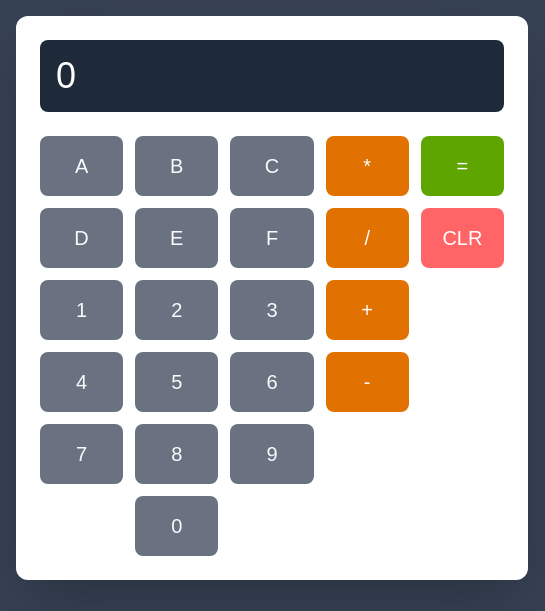
Test: Calculator Add Funtion › should add 1 with 1
Click the button with test id "1".
click(82, 310)  # box [40,280,123,340]
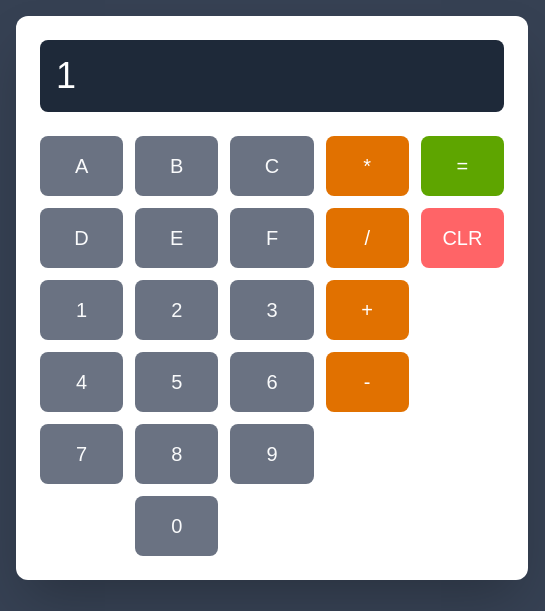
Click the button with test id "+".
click(368, 310)  # box [326,280,409,340]
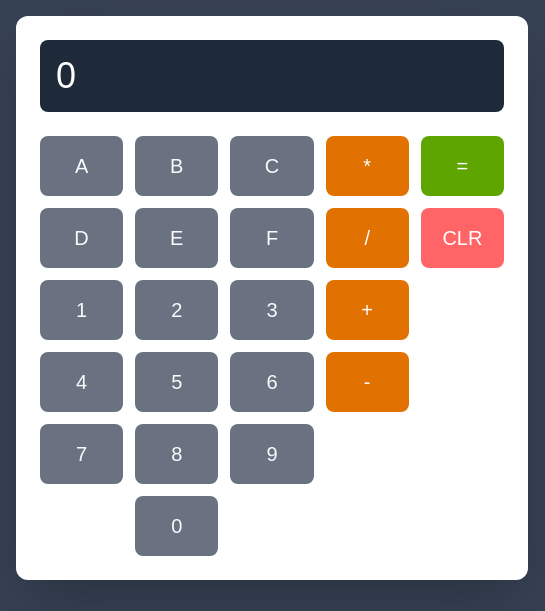
Click the button with test id "1".
click(82, 310)  # box [40,280,123,340]
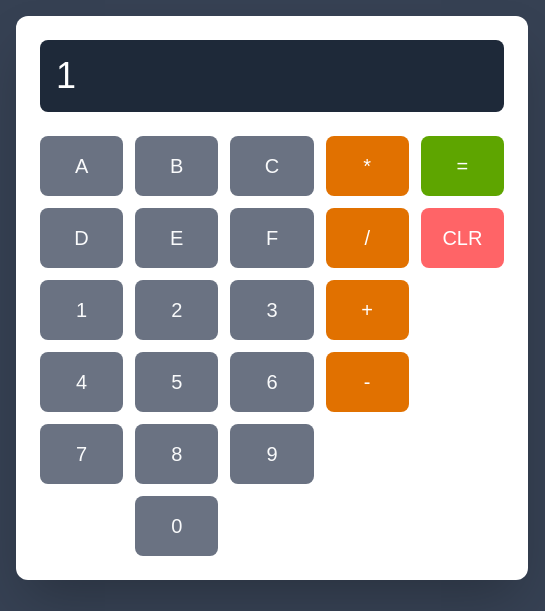
Click the button with test id "equals-btn".
click(463, 166)  # box [421,136,504,196]
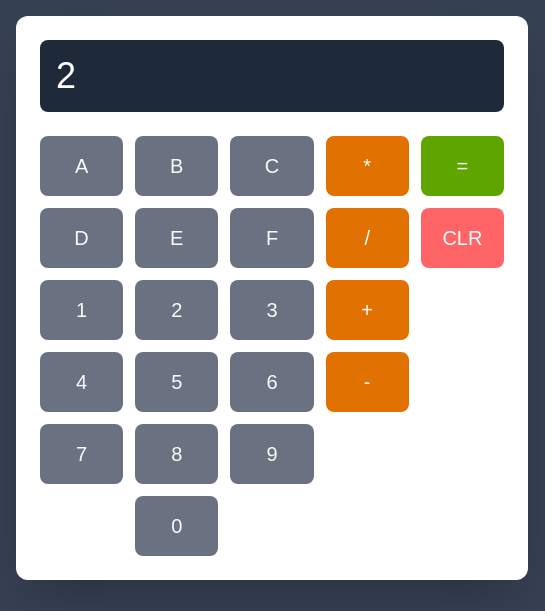
Result: the text with test id "display-value" reads "2" at [56,55,76,96]
